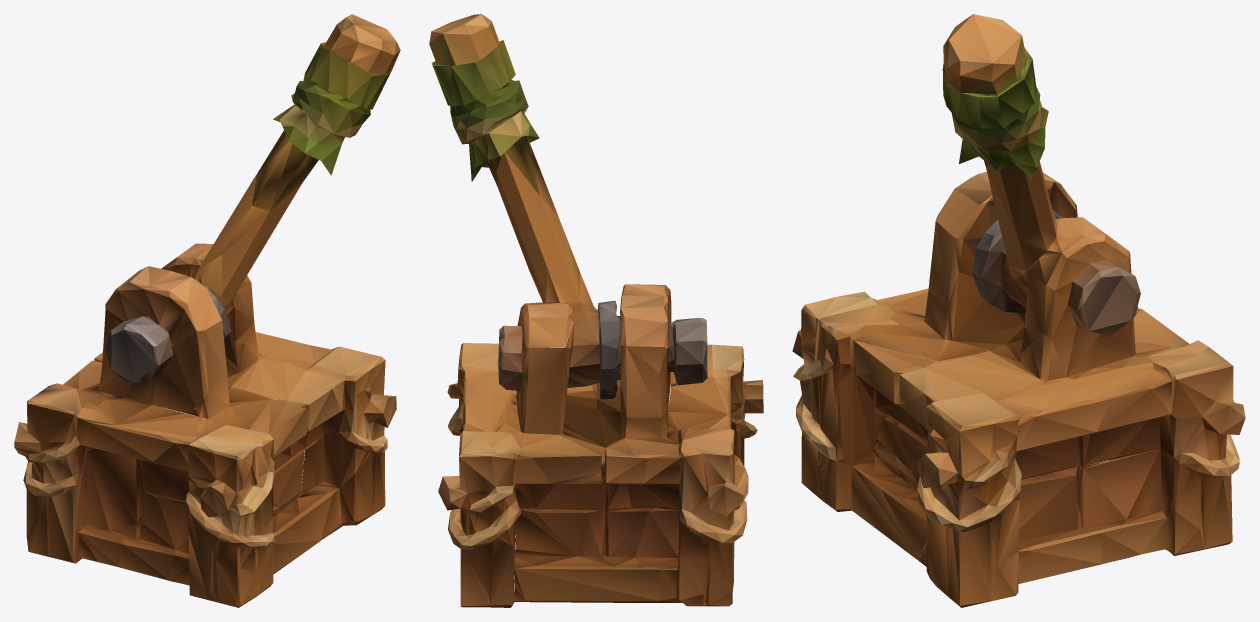
File: building-magnetCrane-lever.glb
The picture shows the model from 3 angles, left to right: view 1: azimuth 30°, elevation 25°; view 2: azimuth 150°, elevation 25°; view 3: azimuth 270°, elevation 25°; orthographic projection. The views are drawn at different scales.
Parts seen in each view (by area): view 1: 0_magnetCrane-lever; view 2: 0_magnetCrane-lever; view 3: 0_magnetCrane-lever.
Part boxes in pixels (x1=…): 0_magnetCrane-lever: x1=14, y1=14, x2=400, y2=607; 0_magnetCrane-lever: x1=429, y1=14, x2=763, y2=607; 0_magnetCrane-lever: x1=792, y1=14, x2=1245, y2=607.
Bounding box in the file's own units: 0.7345 × 1 × 0.7052.
